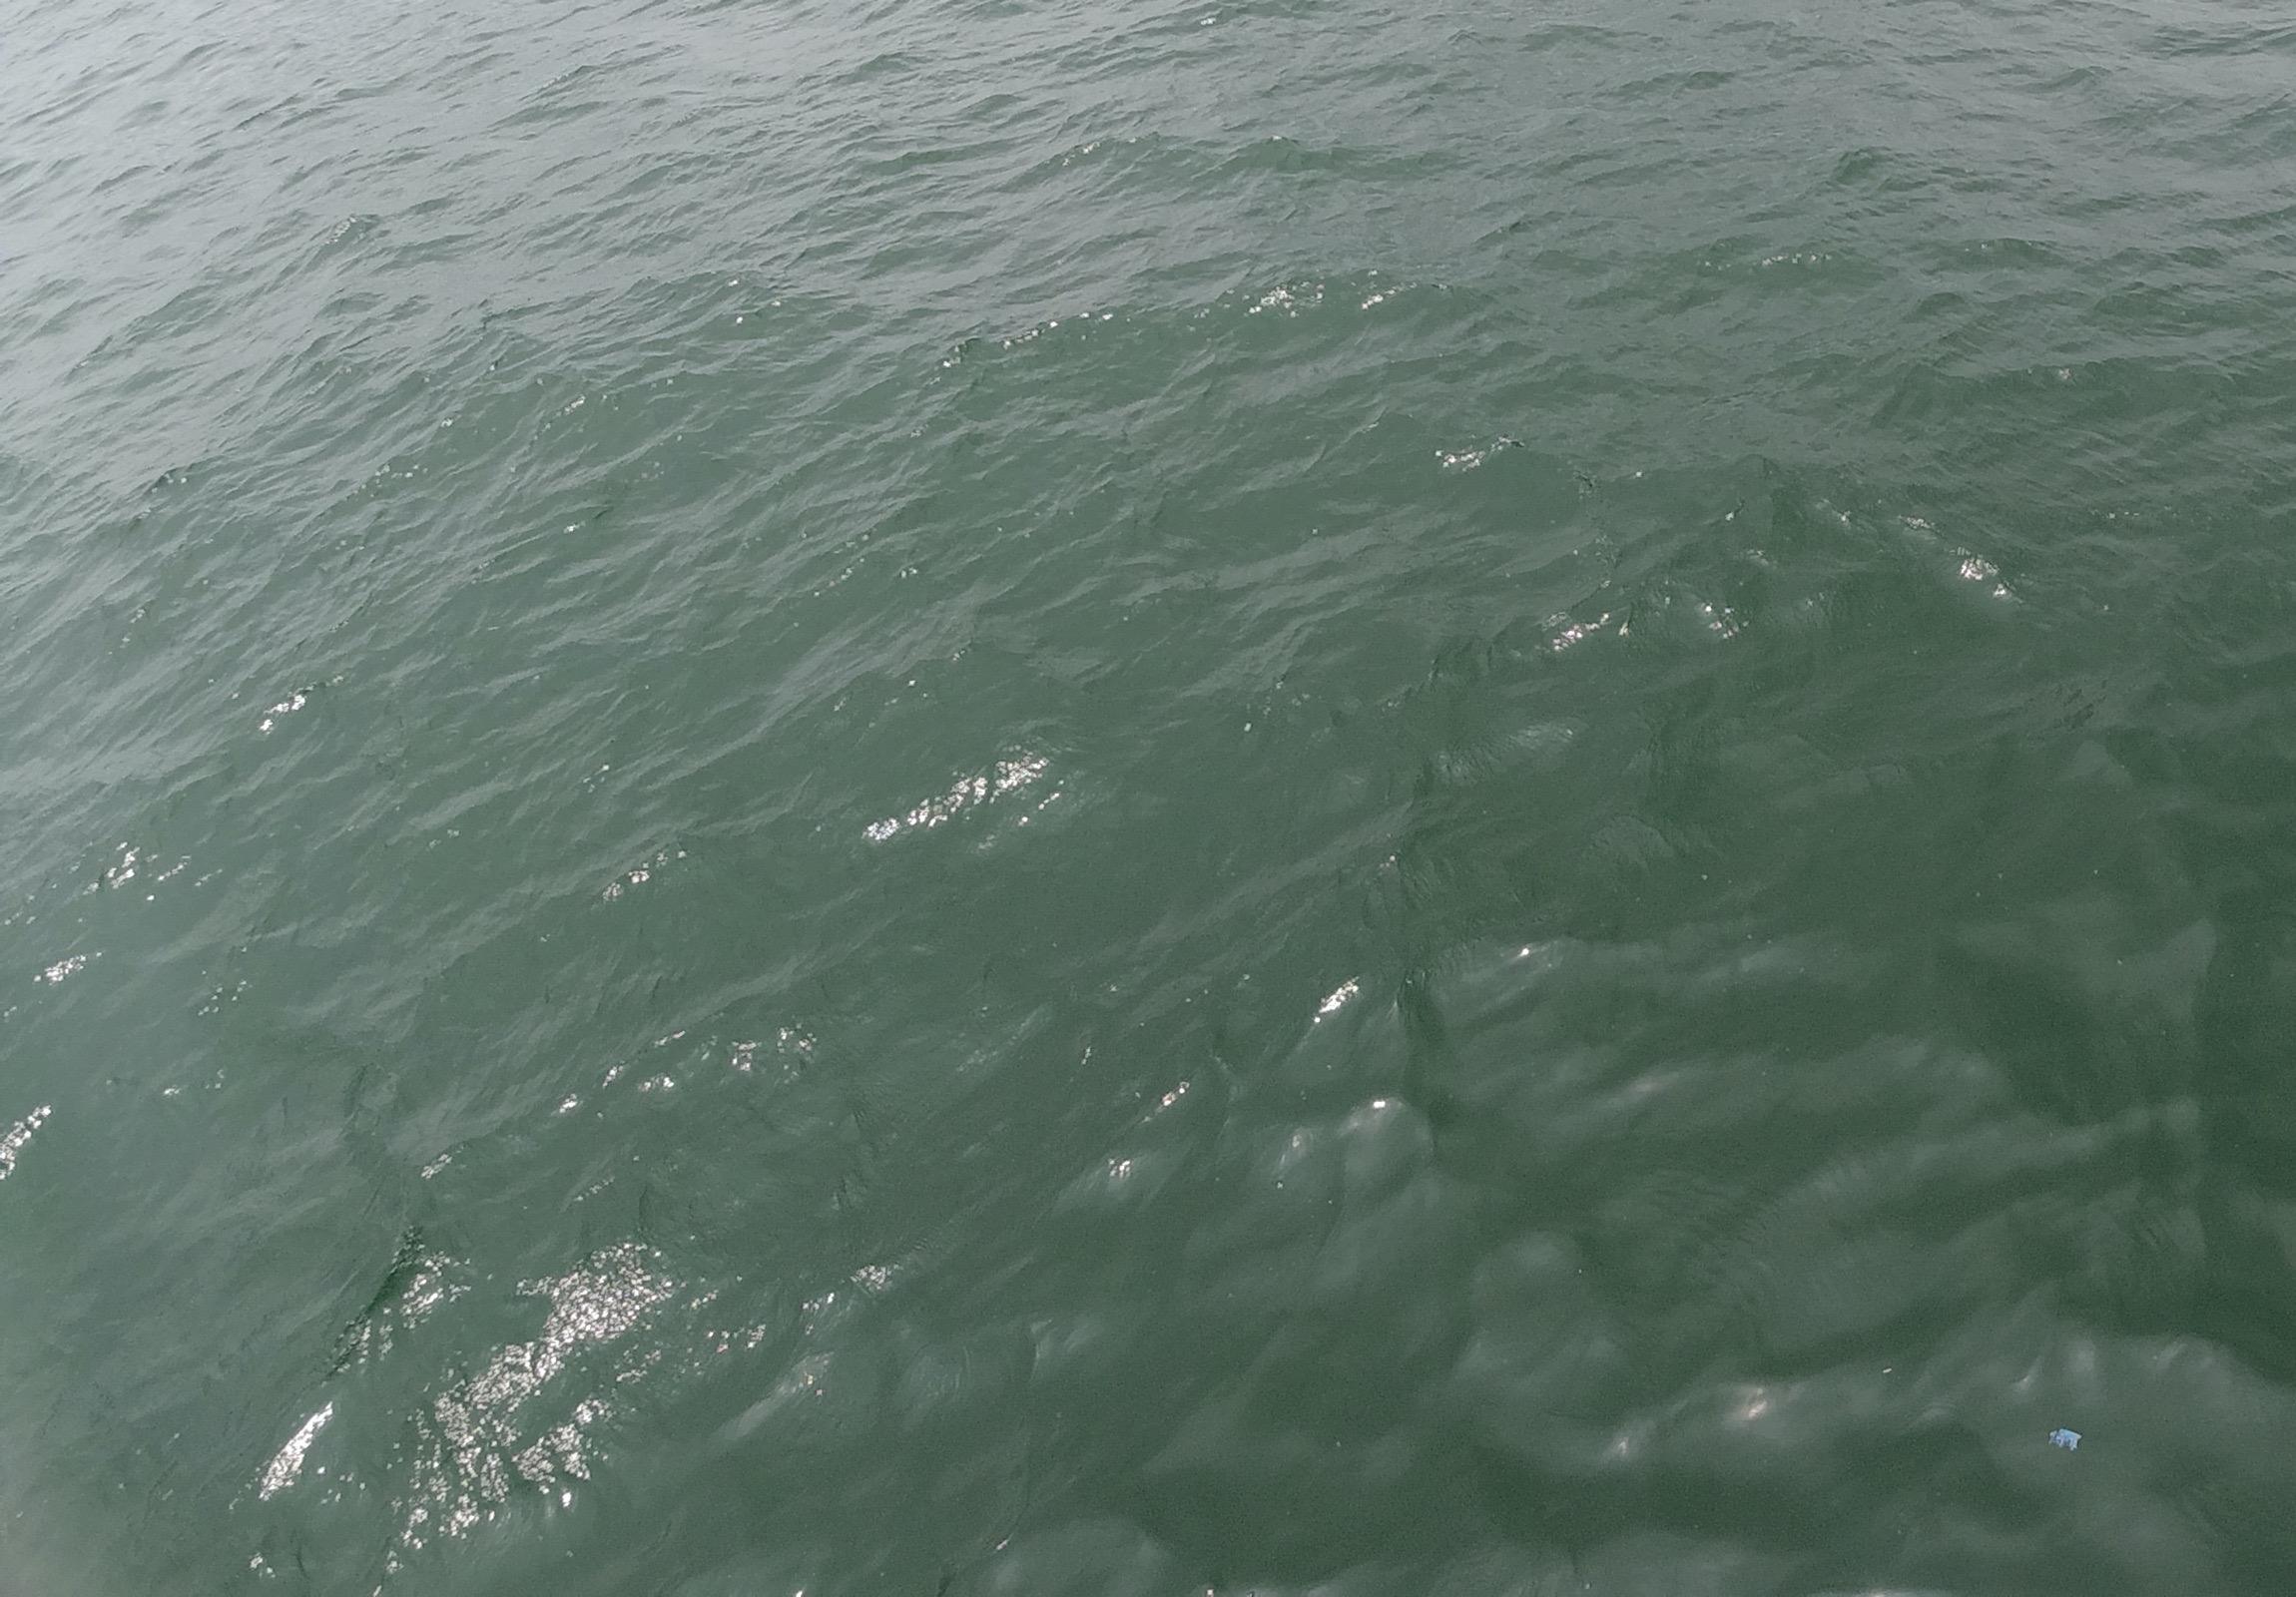plastic: (2043, 1421, 2092, 1461)
